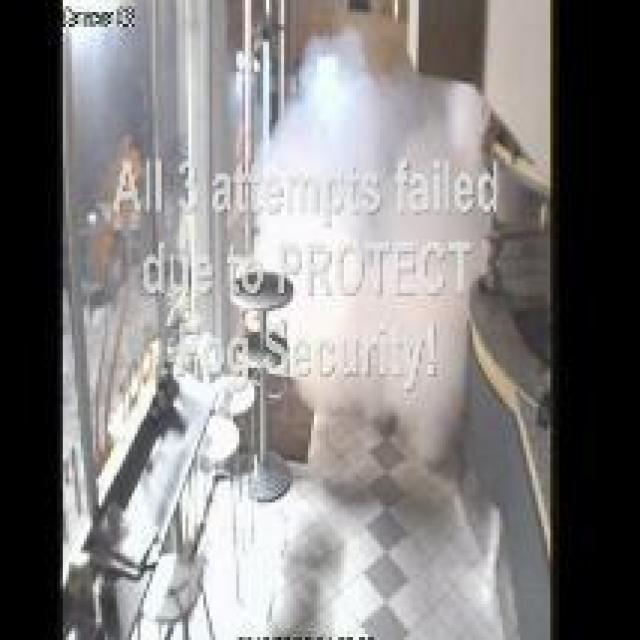fire: (248, 30, 491, 458)
